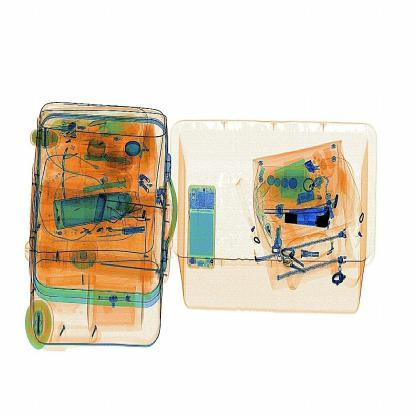knife: (282, 203, 336, 233)
